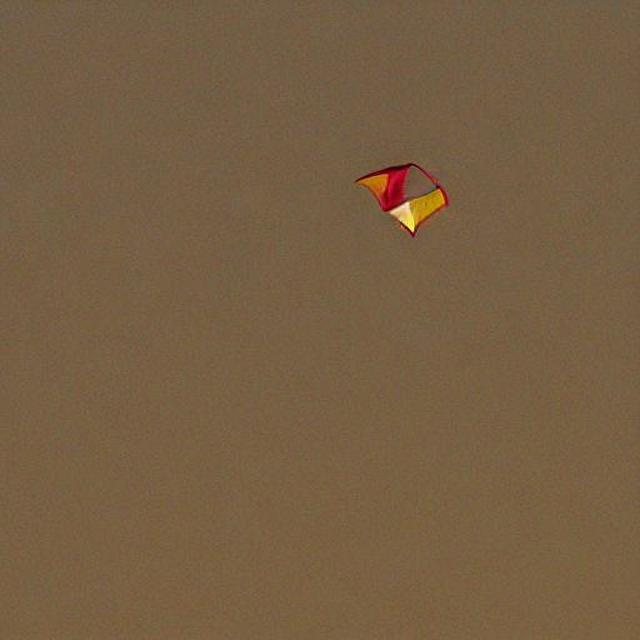floating object: (352, 162, 452, 238)
